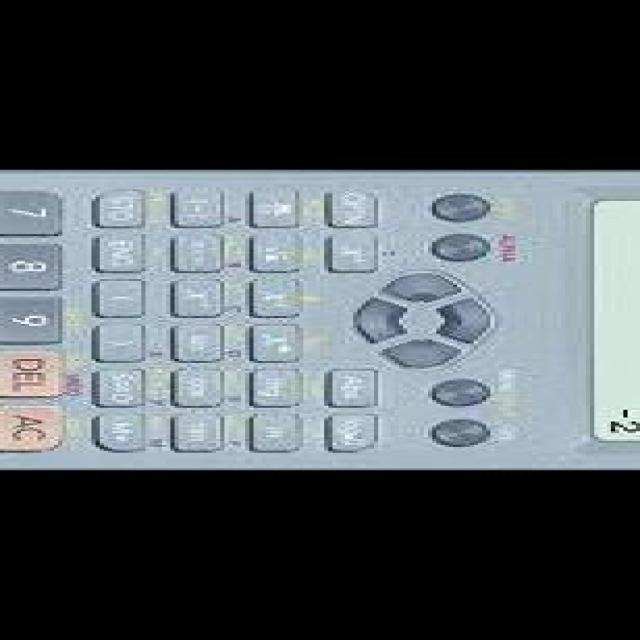Calculator: (0, 170, 636, 470)
